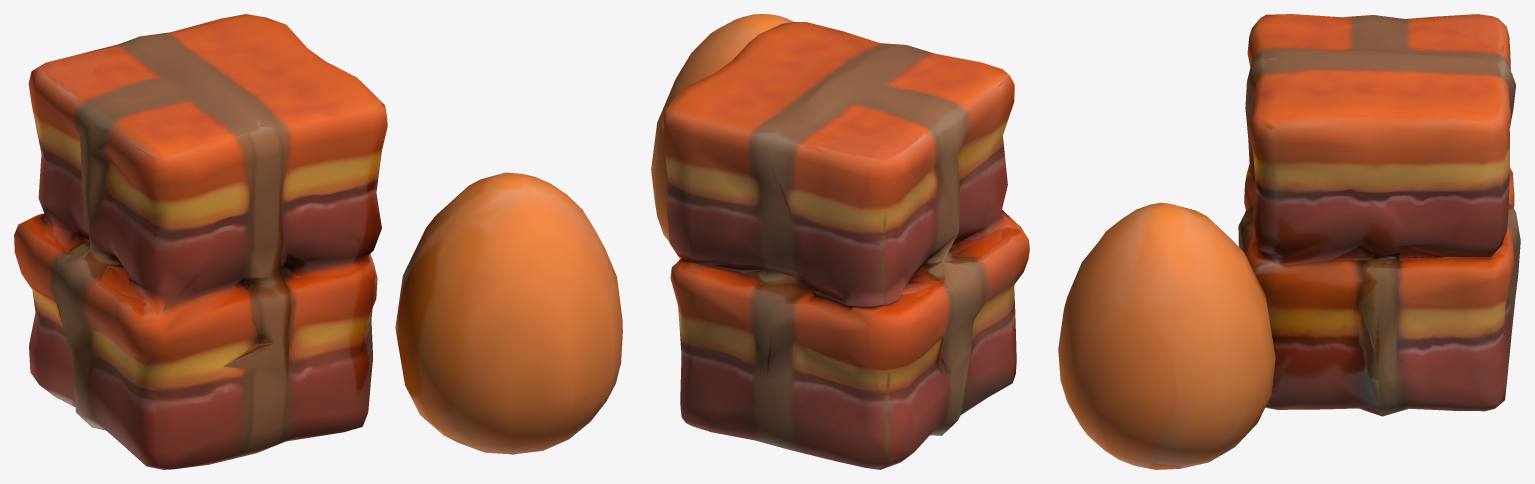
File: image_png_1121131710_texture.fbx
The picture shows the model from 3 angles, left to right: view 1: azimuth 30°, elevation 25°; view 2: azimuth 150°, elevation 25°; view 3: azimuth 270°, elevation 25°; orthographic projection. The views are drawn at different scales.
Parts seen in each view (by area): view 1: Mesh1.0; view 2: Mesh1.0; view 3: Mesh1.0.
Boxes of the visible parts, x1=… form: Mesh1.0: x1=14, y1=14, x2=622, y2=469; Mesh1.0: x1=651, y1=14, x2=1029, y2=469; Mesh1.0: x1=1058, y1=14, x2=1520, y2=469.
Size of the model in its own units: 188 by 143 by 186.
Materials: 1 (1 with a texture image).
